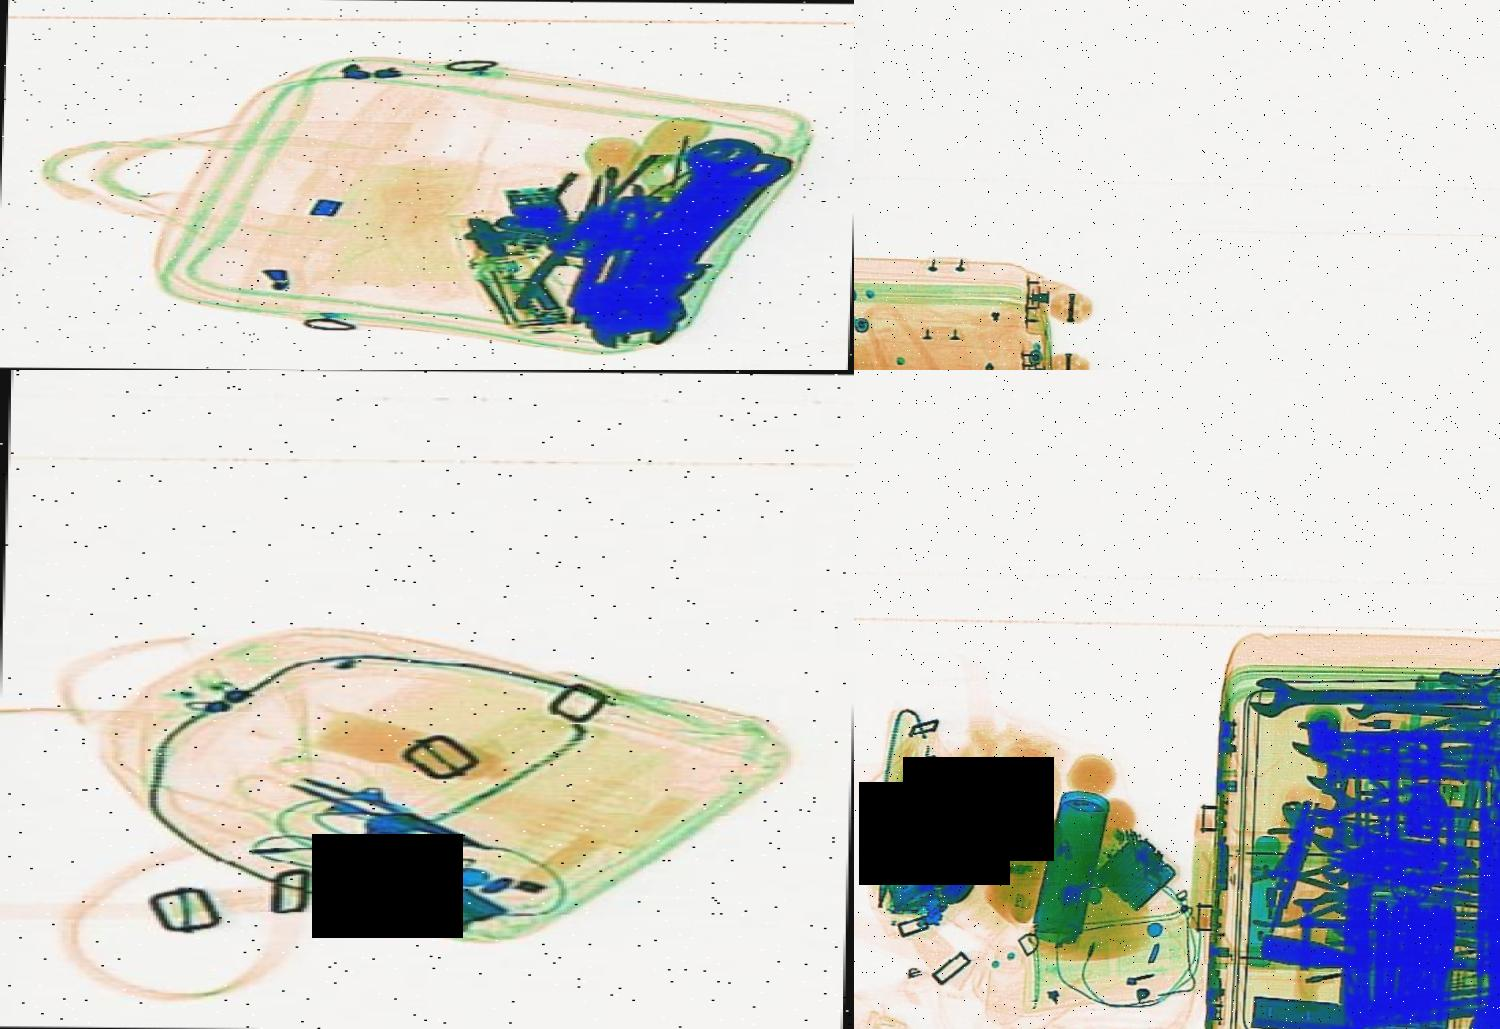Knife: (271, 758, 493, 863)
Pliers: (1246, 868, 1378, 926), (1262, 825, 1380, 884)
Wrench: (572, 131, 776, 352), (1245, 671, 1500, 720), (1287, 710, 1500, 763), (1463, 777, 1500, 1029)
